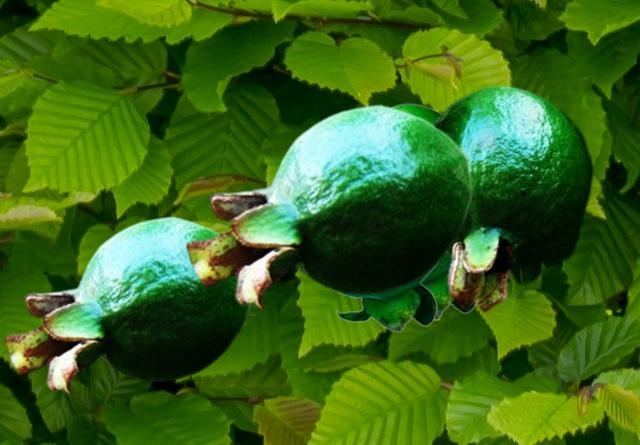guava: (185, 103, 472, 310), (3, 215, 253, 395), (432, 83, 594, 312), (393, 103, 475, 319), (335, 265, 439, 331)
